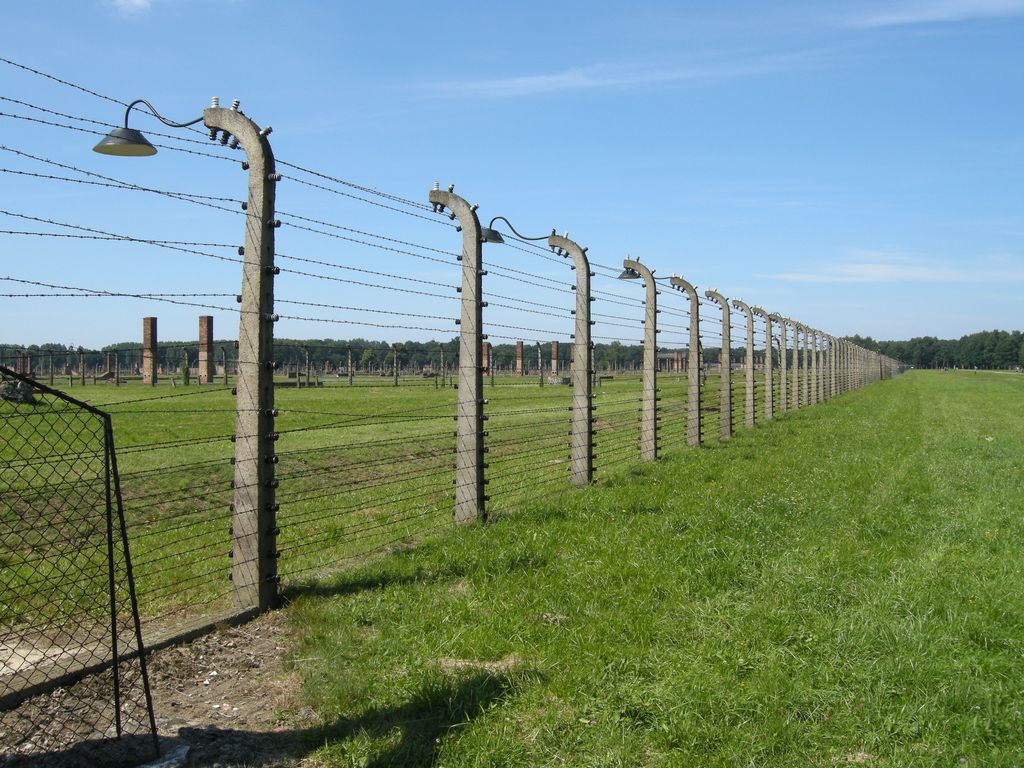Tree: (0, 328, 1023, 376)
